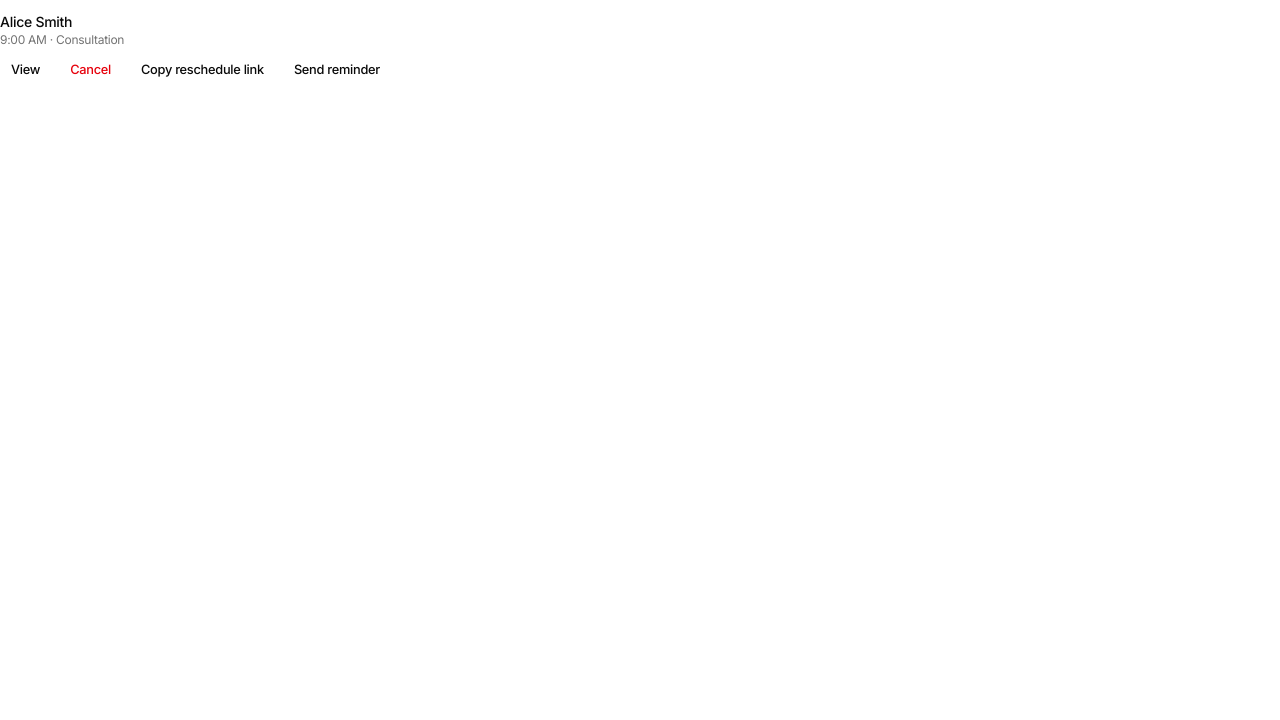
Test: DayDetailRow › (b) Cancel button opens AlertDialog with destructive copy
Click the button "Cancel" at (91, 70), box x1=59 y1=56 x2=122 y2=84
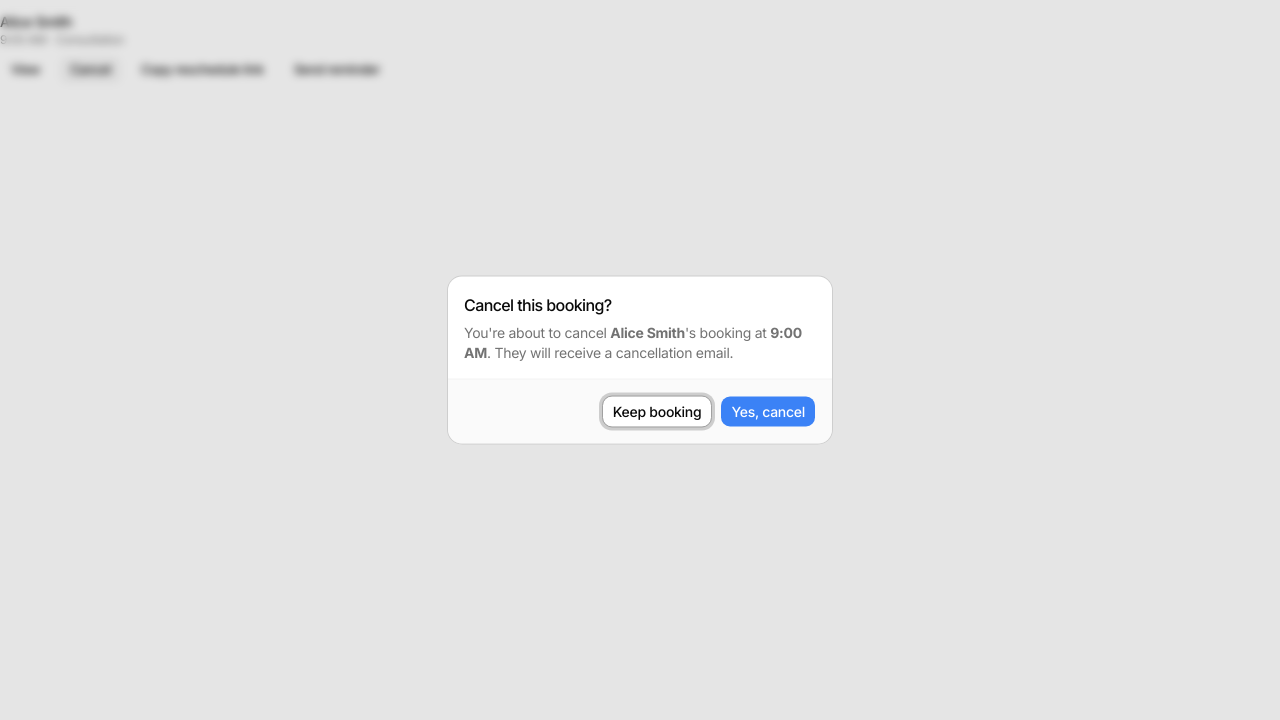
Expected: the dialog is shown, x1=448 y1=276 x2=832 y2=444
Expected: the heading "Cancel this booking?" is shown, x1=464 y1=292 x2=612 y2=316
